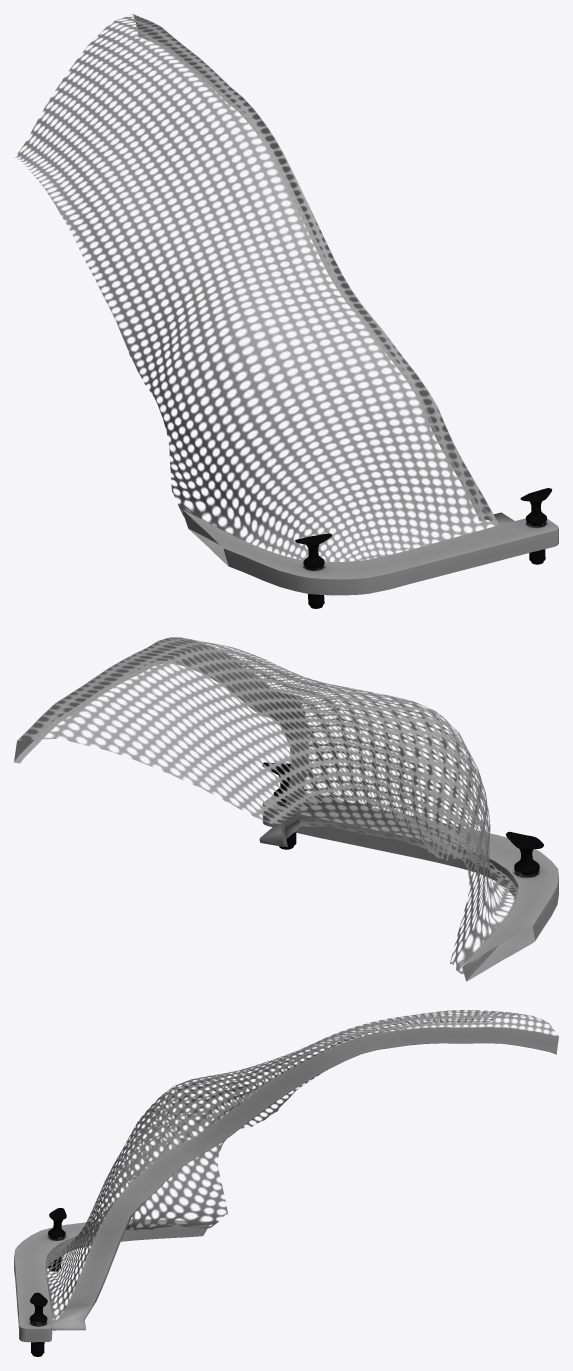
File: left.glb
The picture shows the model from 3 angles, top to bottom: view 1: azimuth 30°, elevation 25°; view 2: azimuth 150°, elevation 25°; view 3: azimuth 270°, elevation 25°; orthographic projection. The views are drawn at different scales.
Visible parts, largest first — view 1: mesh-0; view 2: mesh-0; view 3: mesh-0.
Part boxes in pixels (x1,y1,x2,y2): mesh-0: [15, 14, 558, 608]; mesh-0: [14, 637, 558, 981]; mesh-0: [14, 1010, 558, 1356].
Size of the model in its own units: 24.1 by 28.78 by 48.5.
Materials: 1 (1 with a texture image).
